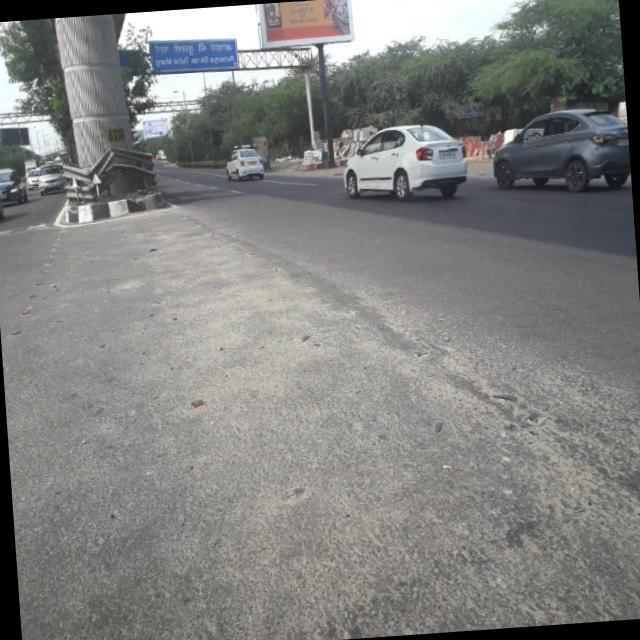crack: (440, 308, 640, 630)
